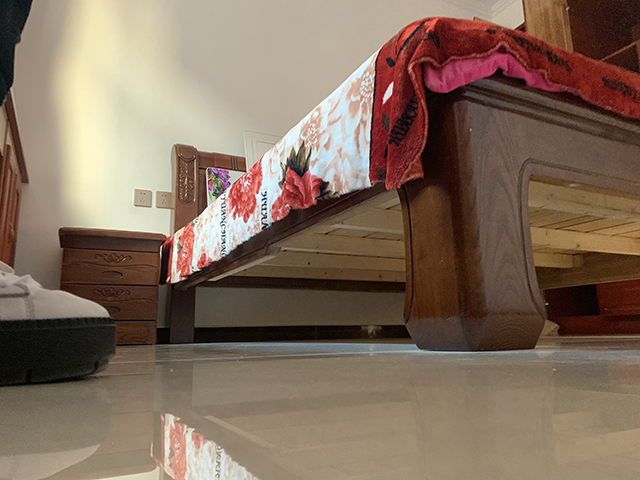bed: (159, 15, 640, 353)
cabinet: (56, 227, 166, 346)
